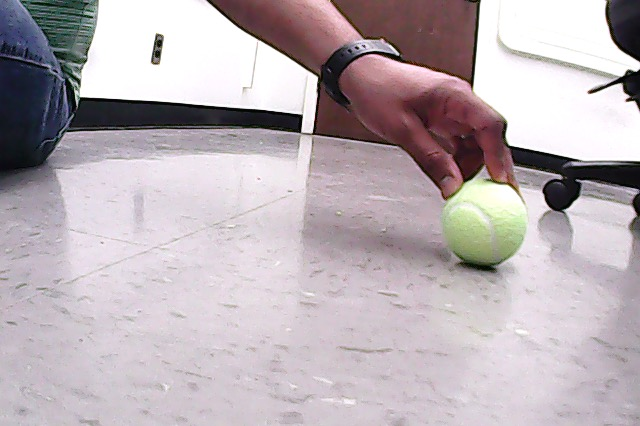ball: (439, 176, 531, 271)
